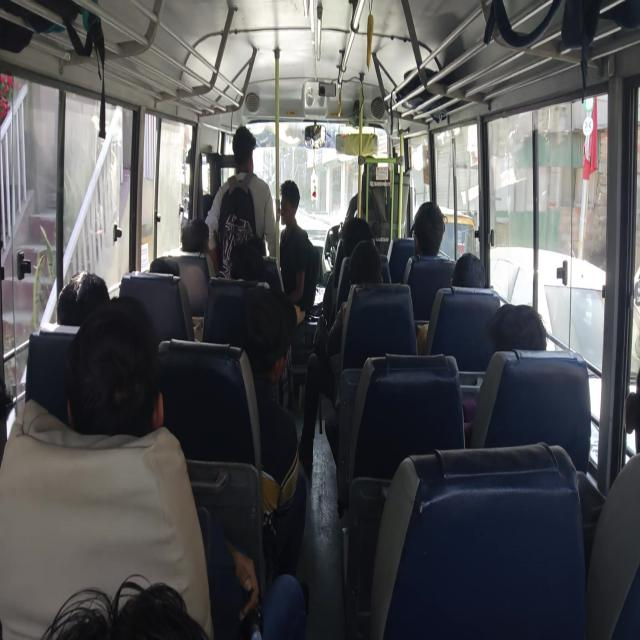person: (57, 543, 193, 640), (82, 305, 168, 444), (246, 313, 298, 377), (54, 271, 106, 332), (492, 300, 541, 359), (396, 202, 441, 266), (180, 204, 218, 264), (341, 220, 383, 273), (138, 252, 180, 303), (229, 251, 269, 300), (229, 134, 264, 182), (451, 252, 487, 295), (277, 183, 306, 236), (349, 248, 379, 290), (244, 234, 266, 258)
